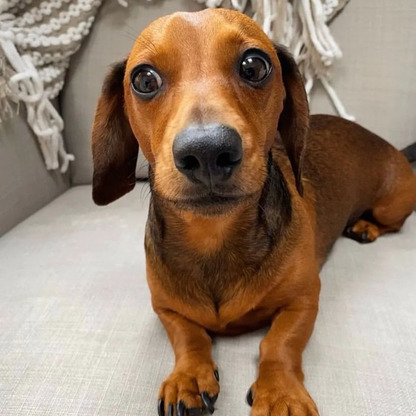dachshund: (74, 7, 384, 396)
